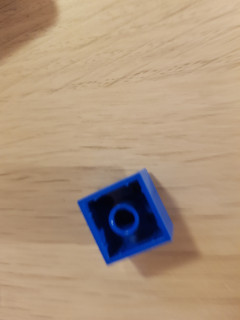2x2 blue: (73, 166, 178, 270)
